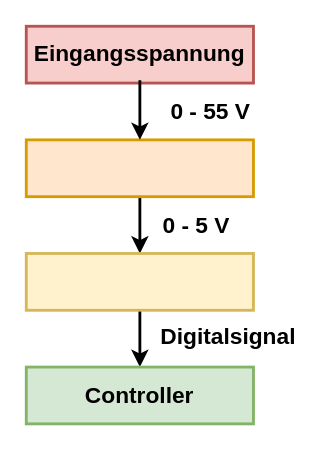
Image size: 331x449. Some labels were removed from this diagram. Here are the shapes that lost their labels. From the top down, the centre of each, then its label:
point 139,167: Spannungsteiler
point 139,281: A/D-Wandler
